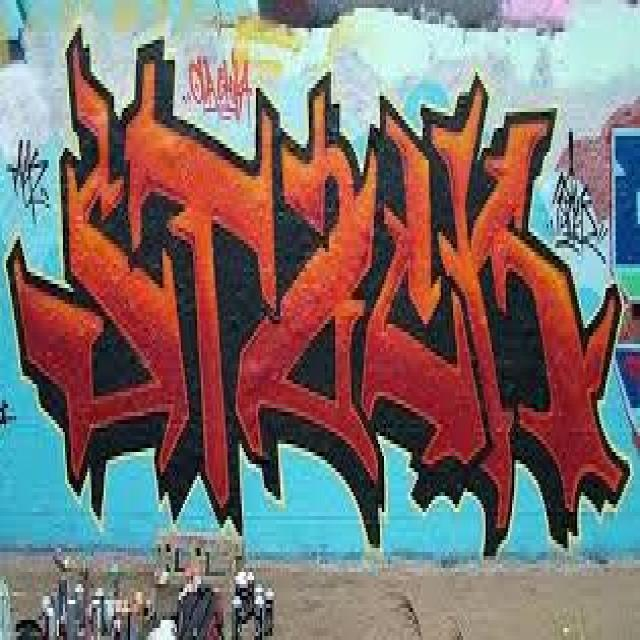-: (8, 28, 630, 550), (608, 125, 640, 452), (544, 130, 612, 264), (185, 52, 254, 126), (5, 136, 50, 224)
